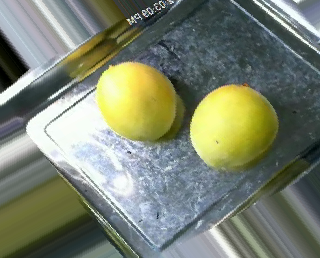Mango: (189, 85, 281, 169), (96, 62, 177, 140)
